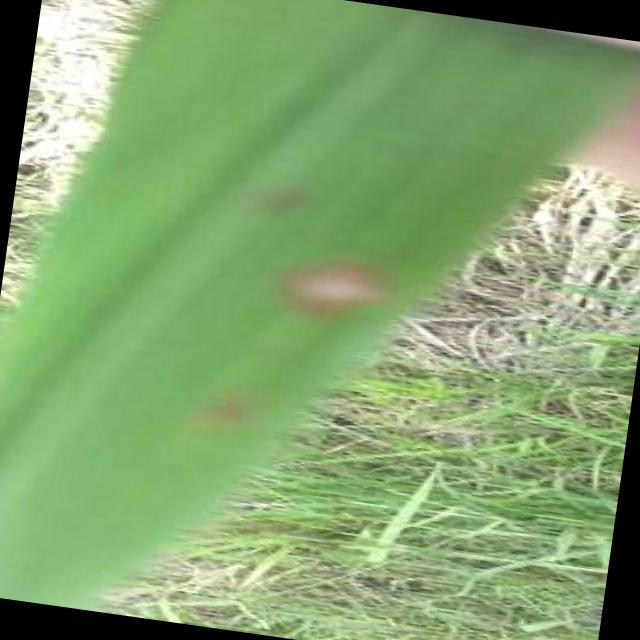Rice_Blast: (256, 214, 423, 339)
